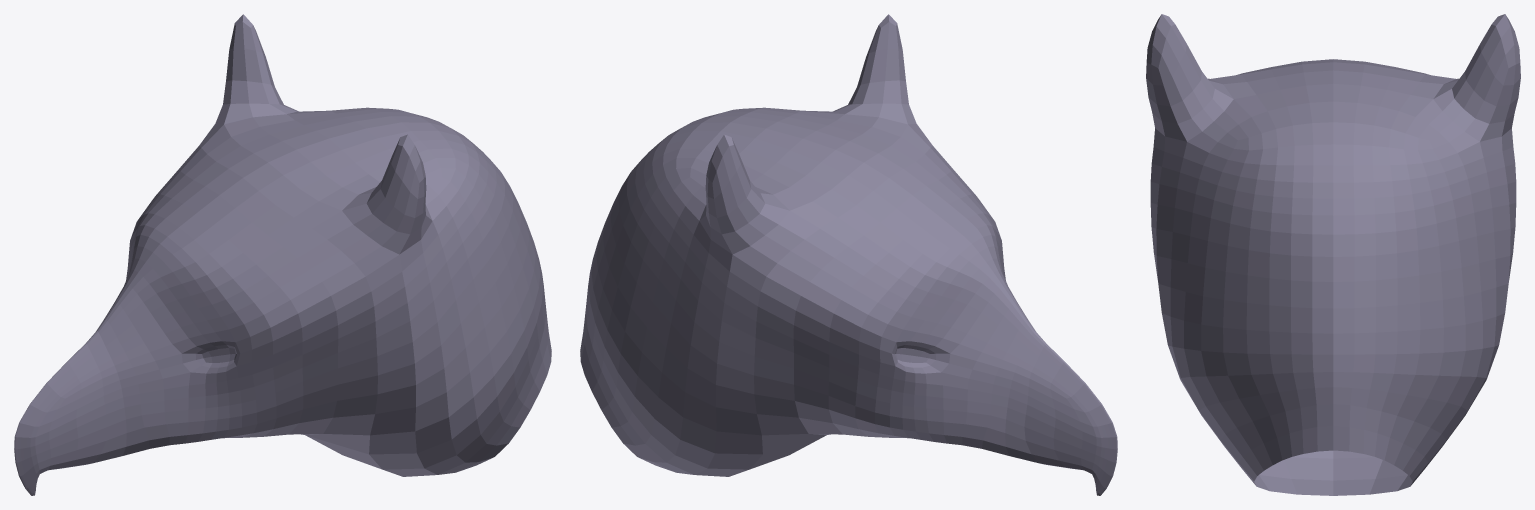
The model's file is Head#1.fbx.
The picture shows the model from 3 angles, left to right: view 1: azimuth 30°, elevation 25°; view 2: azimuth 150°, elevation 25°; view 3: azimuth 270°, elevation 25°; orthographic projection. The views are drawn at different scales.
Visible parts, largest first — view 1: Head#1; view 2: Head#1; view 3: Head#1.
Part boxes in pixels (box(x1,y1,x2,y2)): Head#1: box(14, 14, 551, 495); Head#1: box(580, 14, 1117, 495); Head#1: box(1146, 14, 1520, 495).
Size of the model in its own units: 1.66 by 1.23 by 0.9758.
